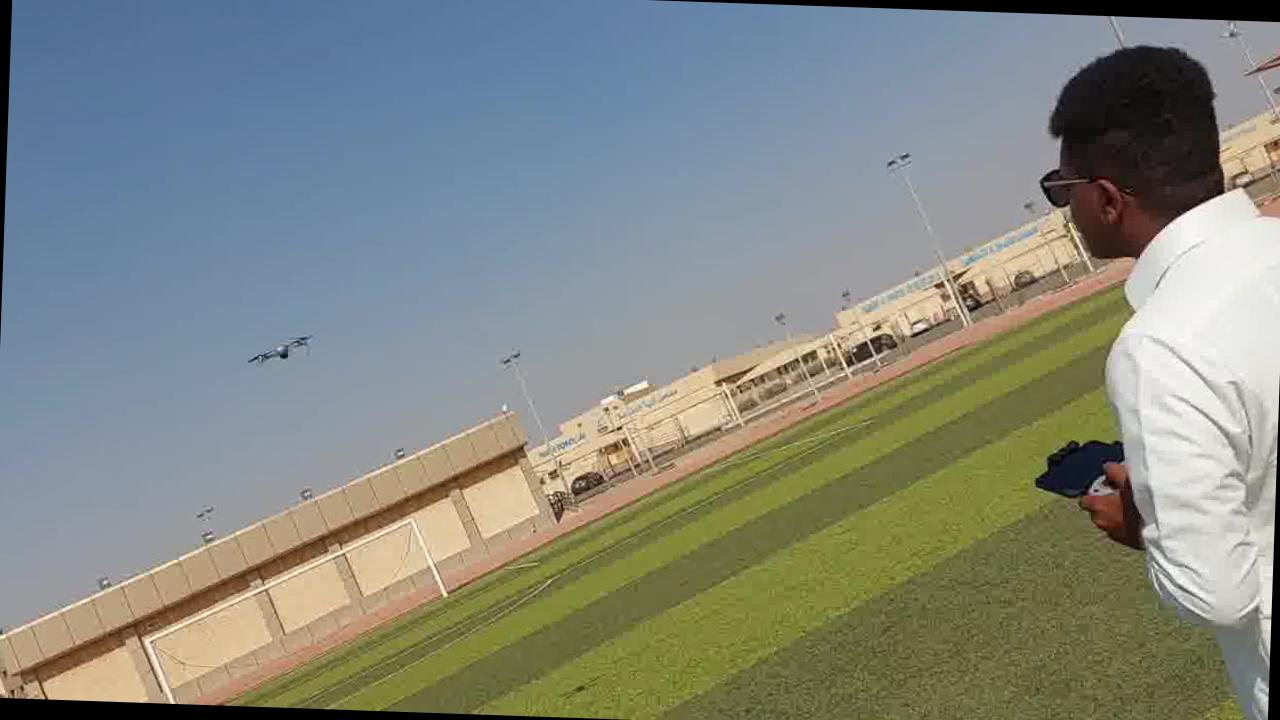drone: (241, 325, 325, 375)
